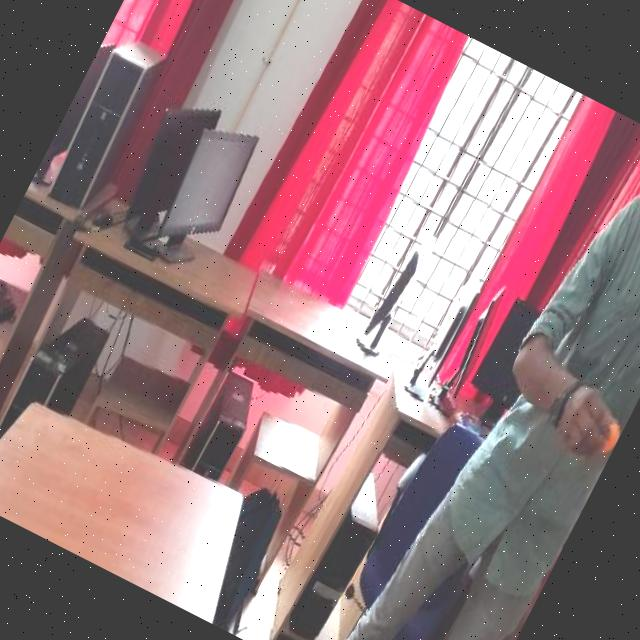ping-pong-ball: (598, 414, 628, 455)
